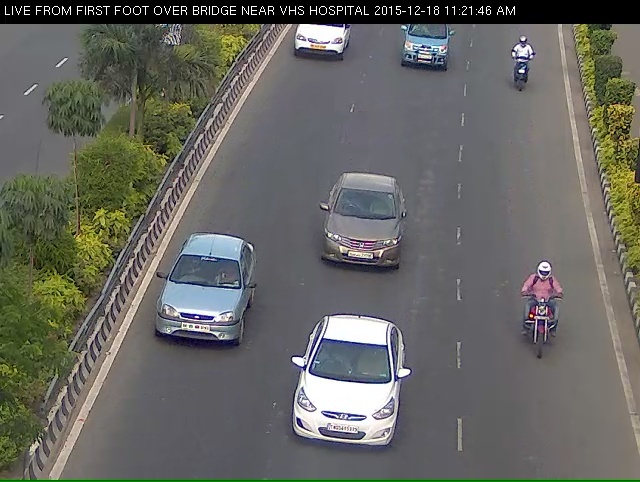Car: (282, 343, 401, 478), (147, 248, 246, 377), (315, 182, 408, 293), (394, 21, 455, 85), (285, 21, 350, 66)
Person: (523, 282, 569, 389), (510, 38, 539, 97)
